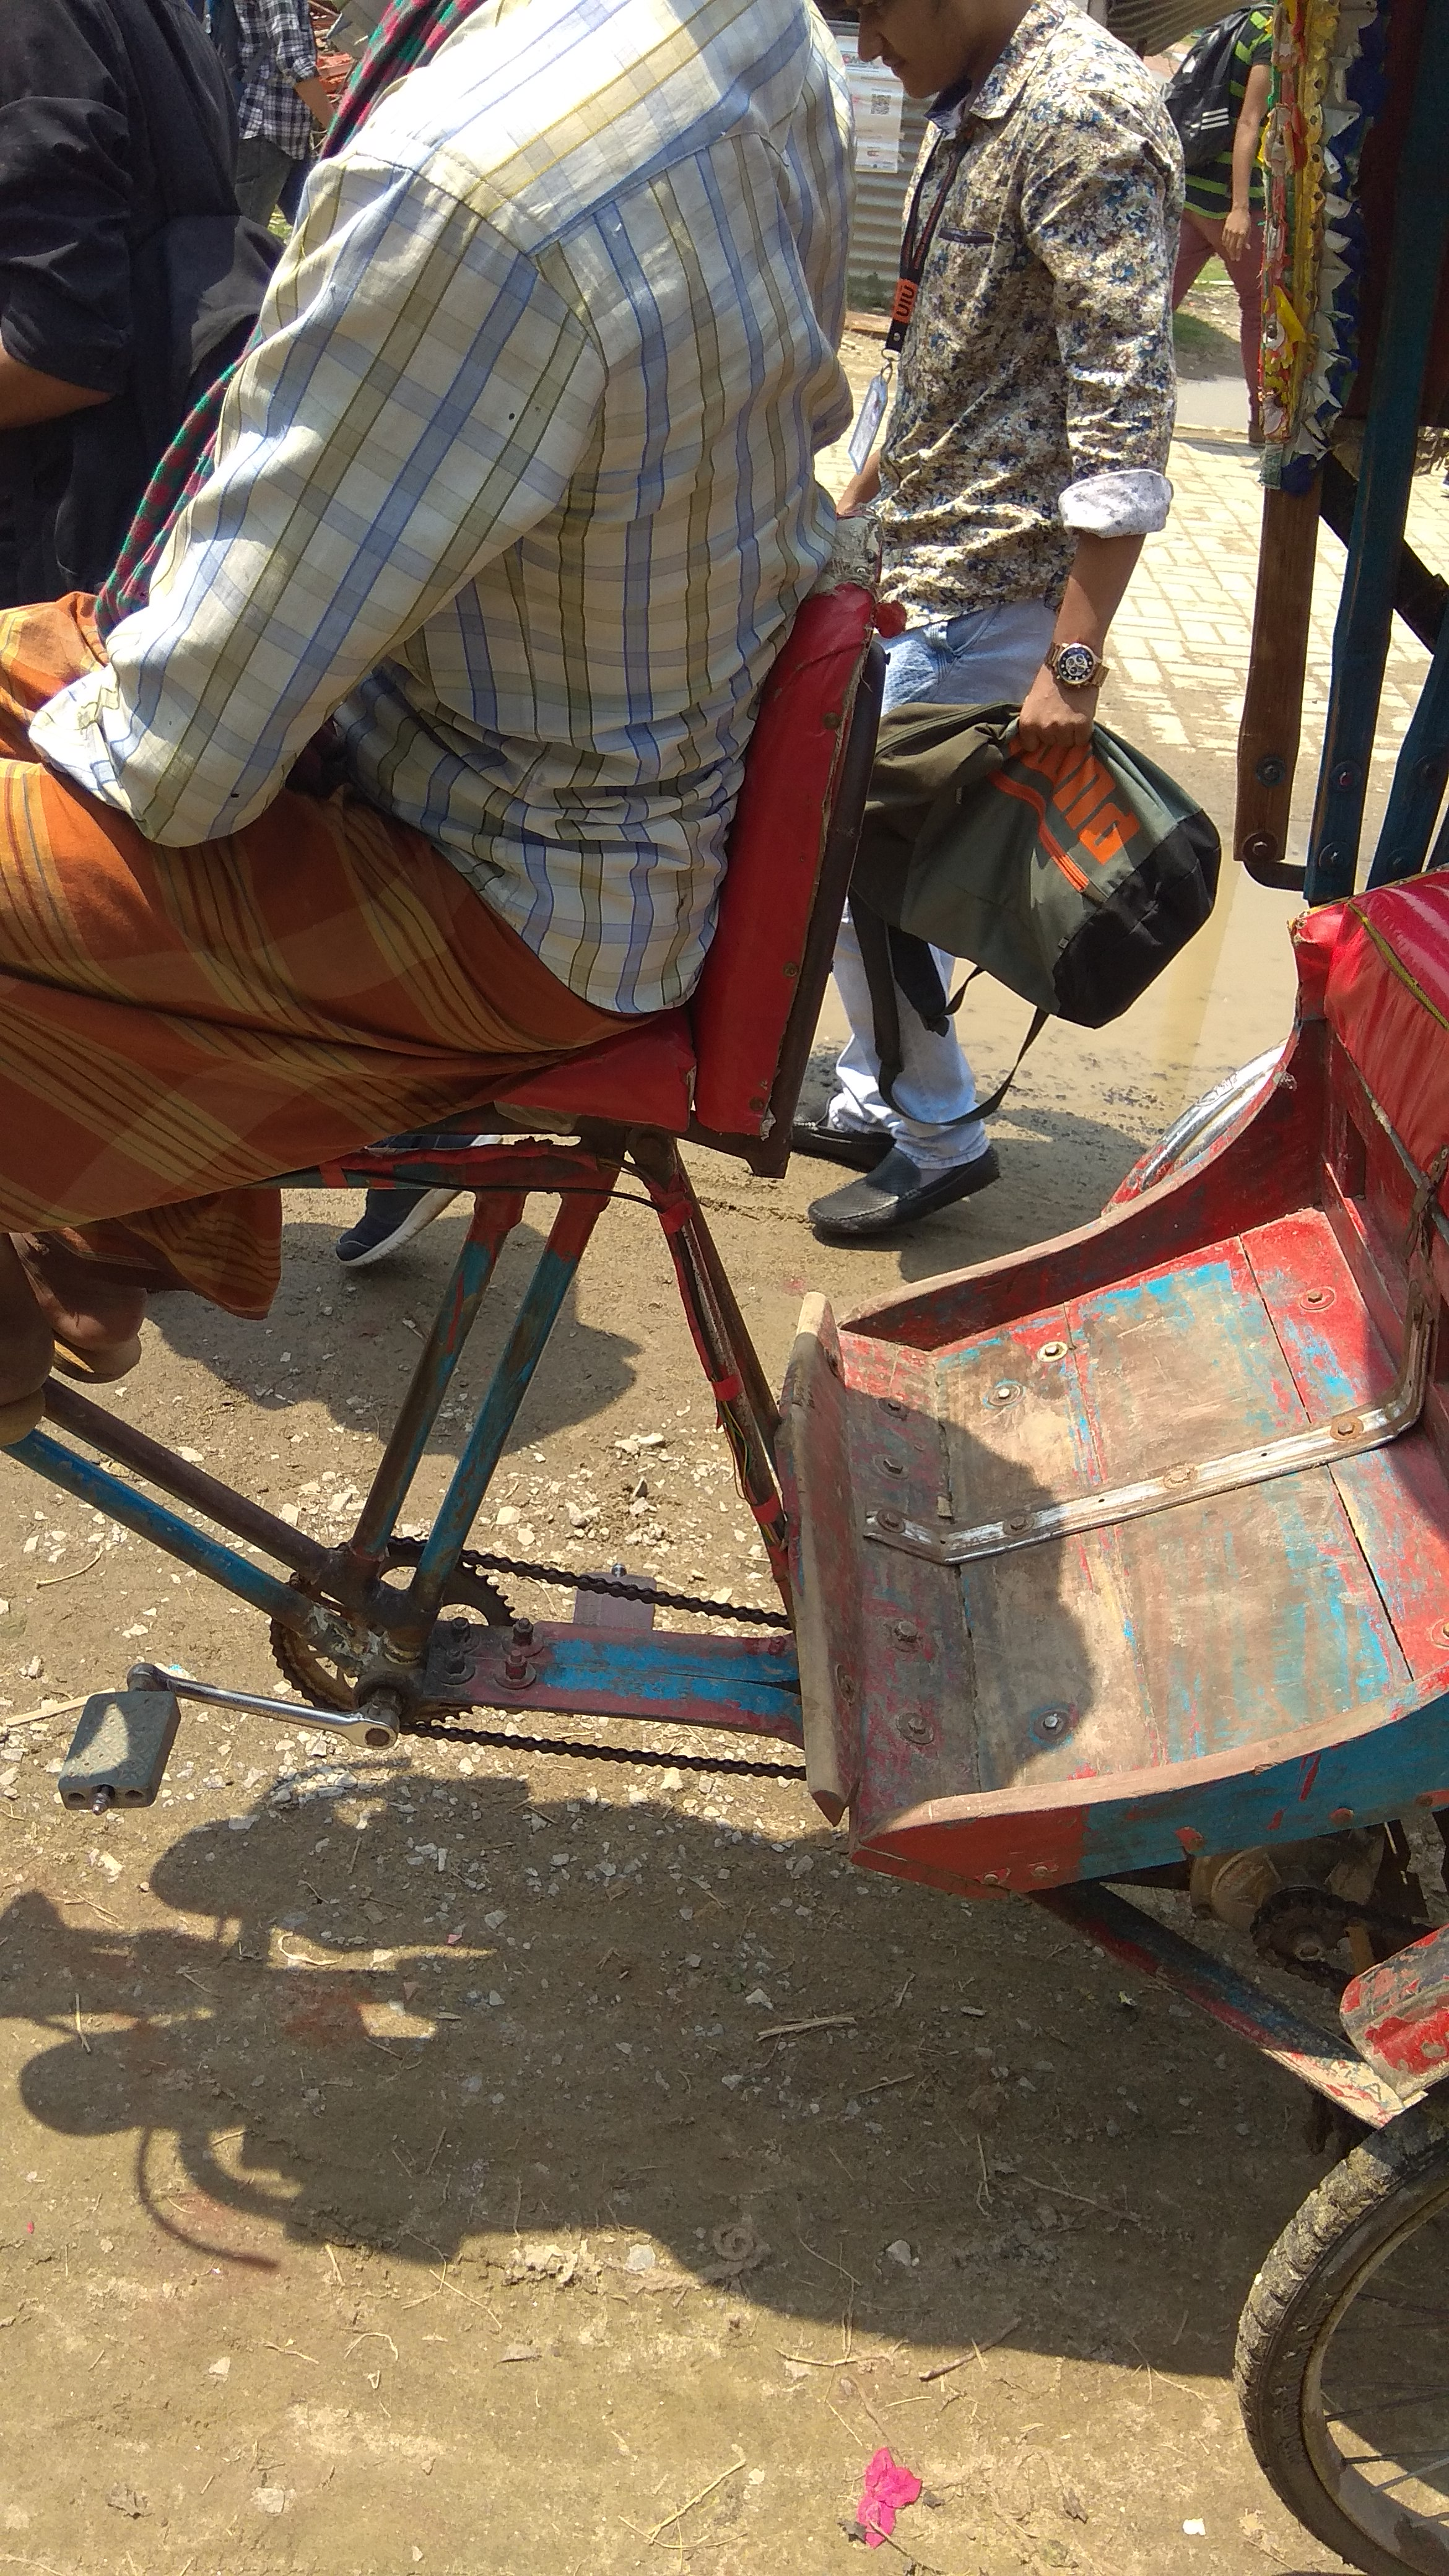Rickshaw: (662, 2, 1447, 2026)
